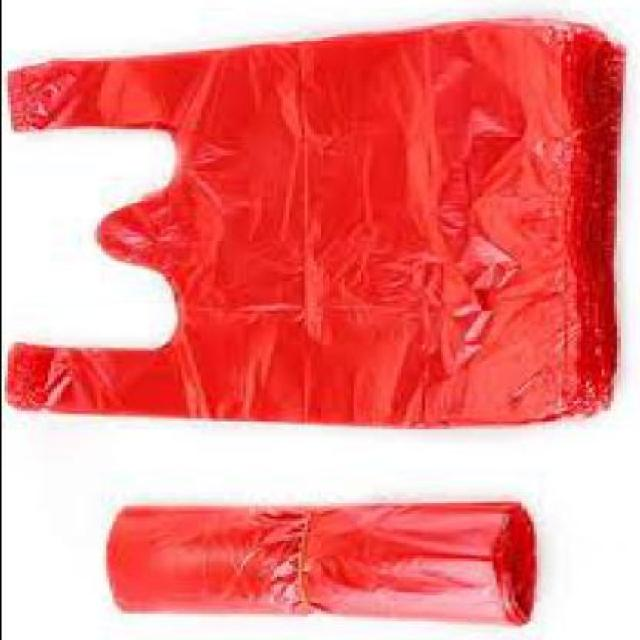PLASTIC: (2, 20, 624, 431), (102, 505, 529, 627)
